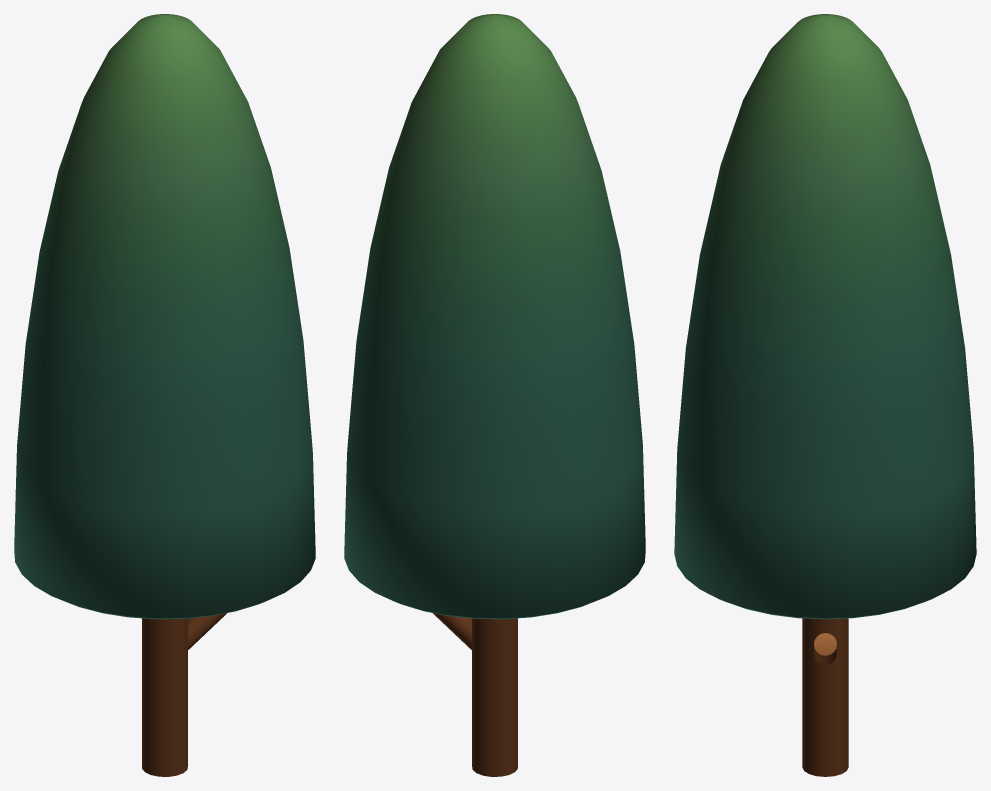
The model's file is Tree03.FBX.
3 views of the same model, side by side, from view 1: azimuth 30°, elevation 25°; view 2: azimuth 150°, elevation 25°; view 3: azimuth 270°, elevation 25° (orthographic).
Parts seen in each view (by area): view 1: pasted__Tree05; view 2: pasted__Tree05; view 3: pasted__Tree05.
Part boxes in pixels (x1,y1,x2,y2): pasted__Tree05: (14,14,315,776); pasted__Tree05: (344,14,645,776); pasted__Tree05: (674,14,976,776).
Size of the model in its own units: 61.01 by 167 by 61.01.
